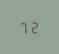seven: (19, 20, 28, 34)
two: (29, 20, 38, 33)
